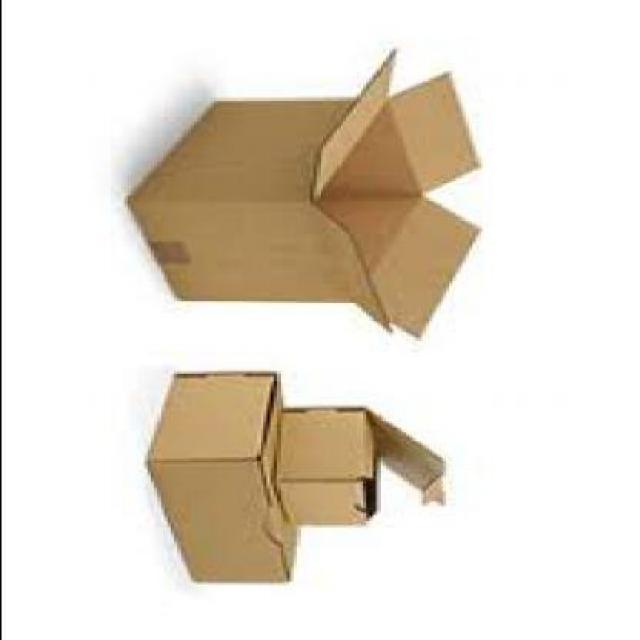box: (126, 50, 480, 336), (150, 369, 299, 582), (272, 400, 448, 523)
